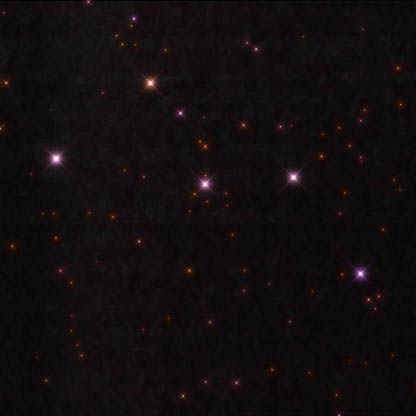Cassiopeia: (131, 65, 190, 125), (34, 141, 82, 182), (274, 150, 307, 194), (191, 166, 224, 201), (344, 255, 376, 290)
